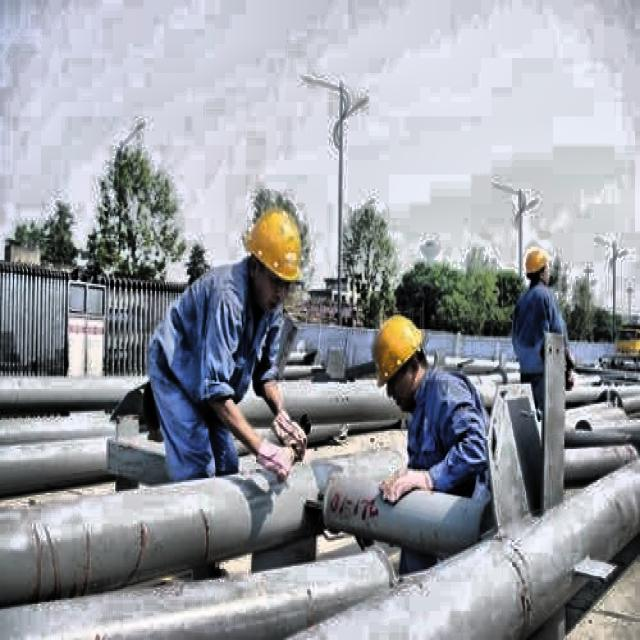helmet: (240, 191, 314, 313), (370, 305, 433, 413), (521, 242, 553, 291)
